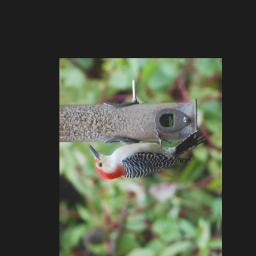Woodpecker: (88, 126, 209, 182)
